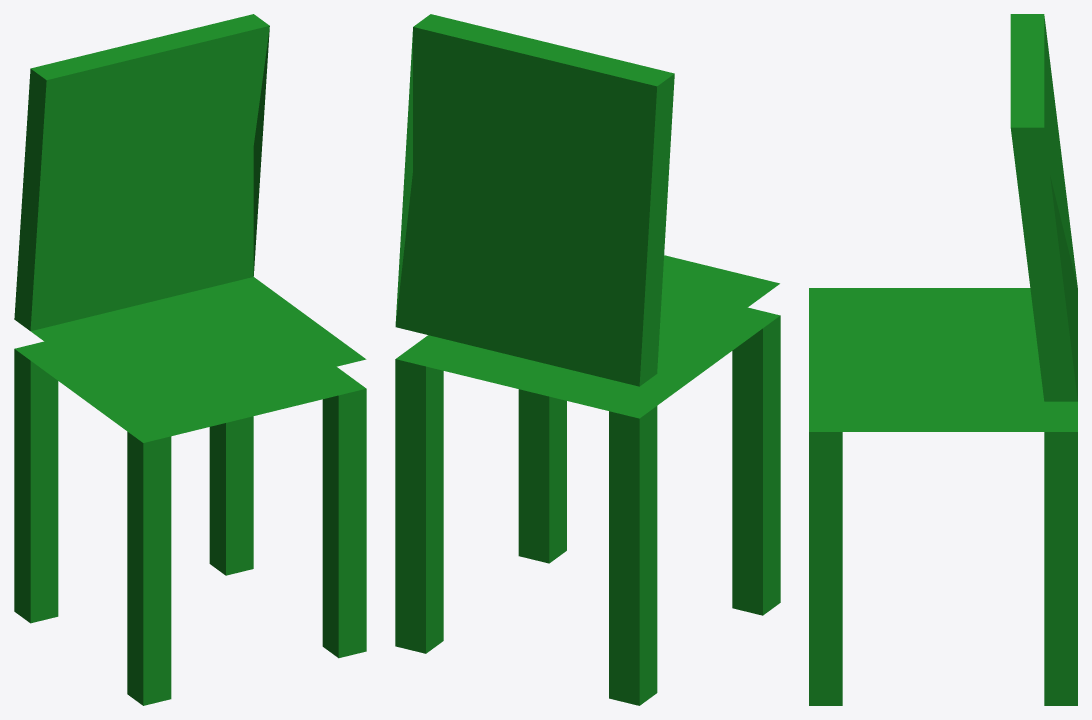
File: cadeira.obj
3 views of the same model, side by side, from view 1: azimuth 30°, elevation 25°; view 2: azimuth 150°, elevation 25°; view 3: azimuth 270°, elevation 25° (orthographic). The views are drawn at different scales.
Parts seen in each view (by area): view 1: cadeira_1; view 2: cadeira_1; view 3: cadeira_1.
Boxes of the visible parts, x1,y1,x2,y2 form: cadeira_1: (14, 14, 366, 705); cadeira_1: (395, 14, 780, 705); cadeira_1: (809, 14, 1077, 705).
Bounding box in the file's own units: 0.4 × 0.95 × 0.4.
